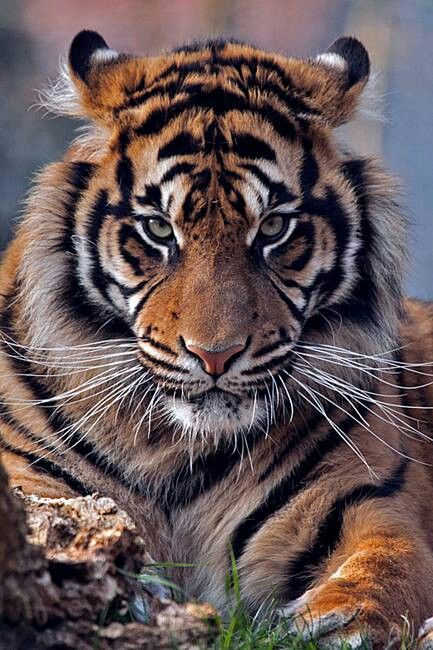Tigrew: (28, 19, 407, 516)
